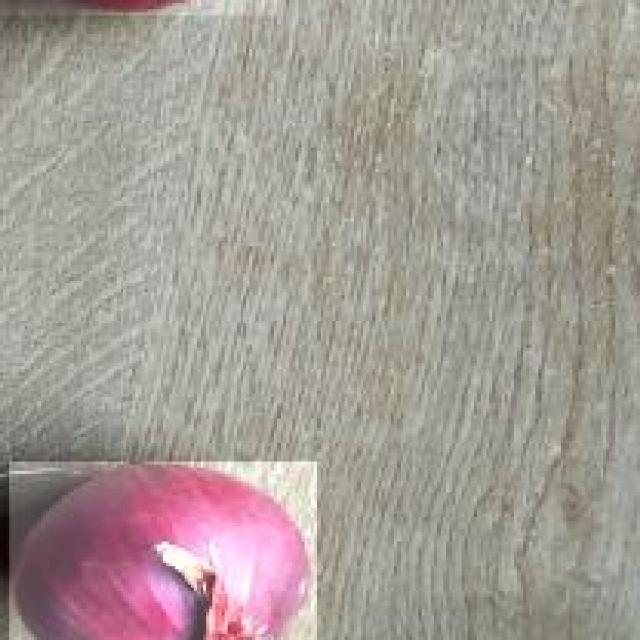onion: (9, 458, 320, 640)
